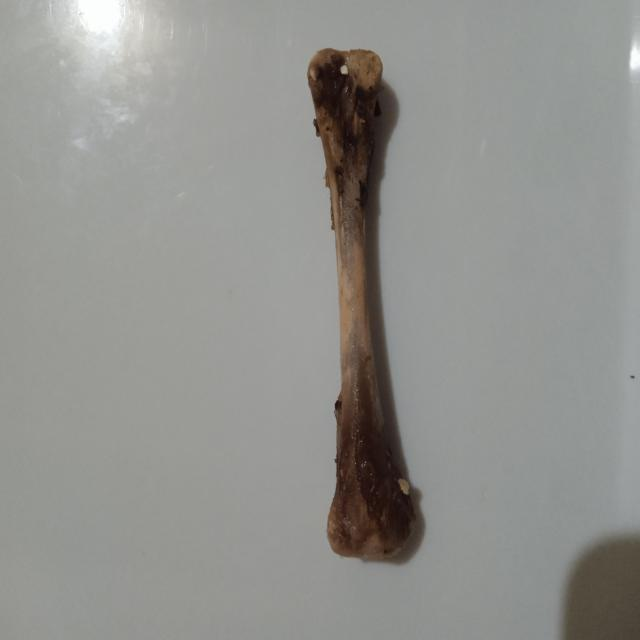bone: (305, 42, 422, 567)
